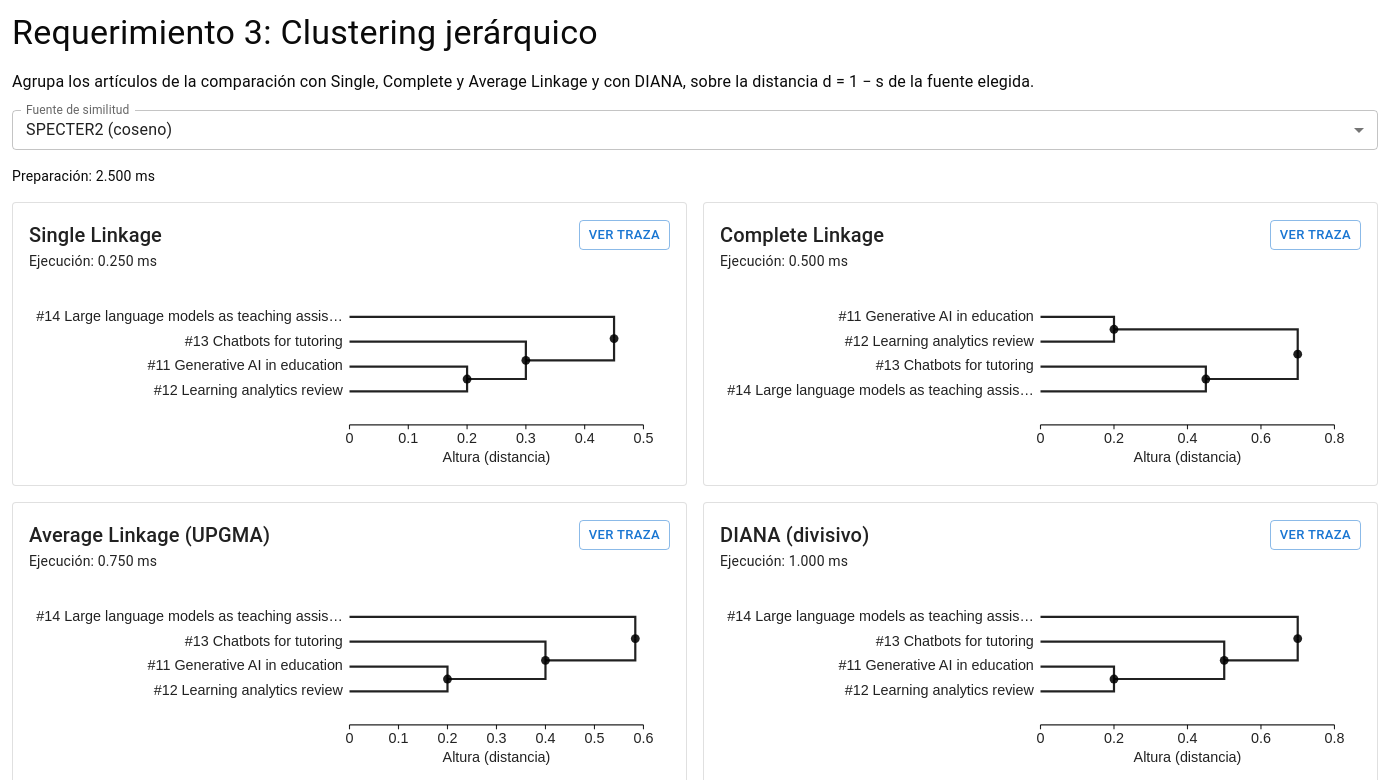
Test: ClusteringSection (REQ-13, REQ-14, REQ-18, REQ-19, REQ-22, AC-13, AC-14, AC-16, AC-17, AC-19) › al cambiar la fuente agrupa los mismos artículos con la nueva fuente
expect the text "Preparación: 2.500 ms" is shown: met, box [12,168,155,184]
Select "Jaccard" in the dropdown labelled "Fuente de similitud". click: (695, 130)
box: [12,110,1378,150]
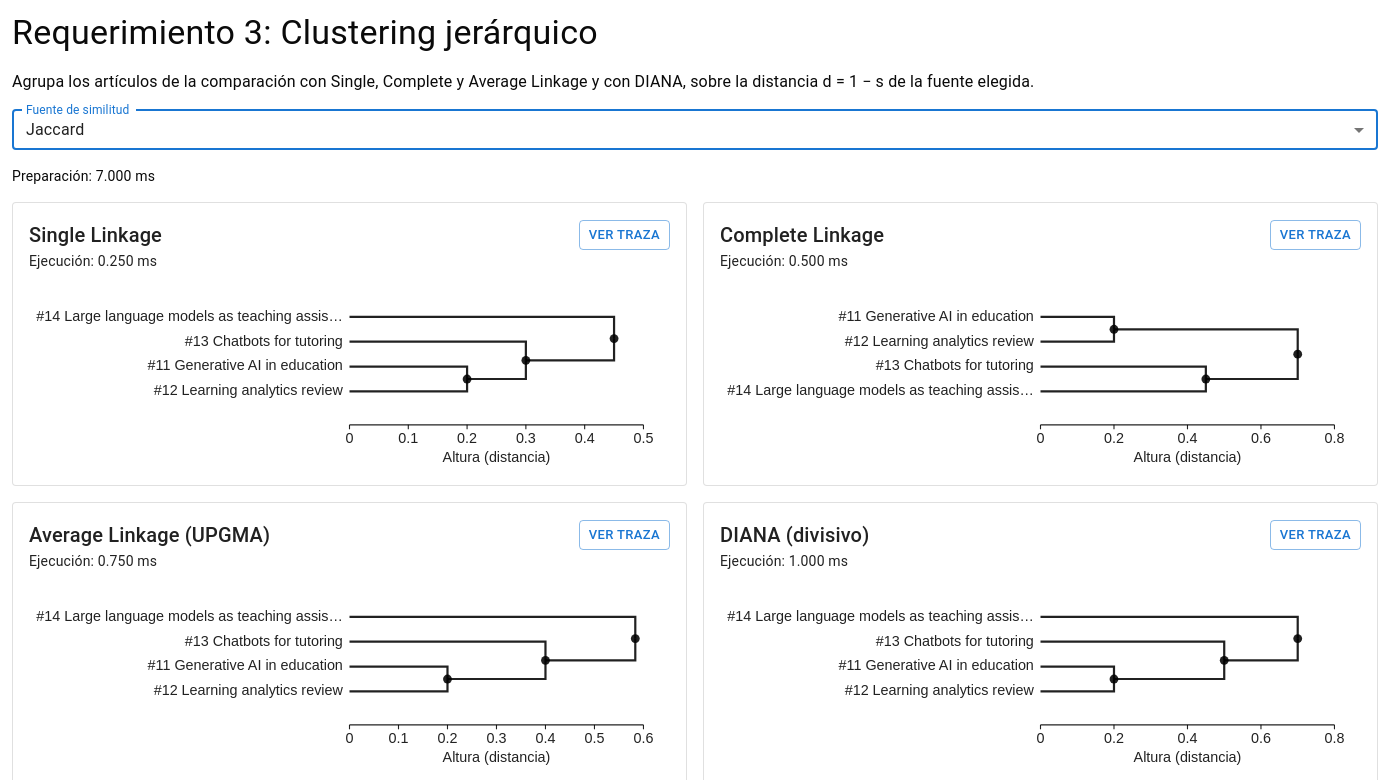
expect the number of pictures named "Dendrograma: " is 4: met, box [29,279,670,469]; [720,279,1361,469]; [29,579,670,769]; [720,579,1361,769]
expect the text "Preparación: 7.000 ms" is shown: met, box [12,168,155,184]
